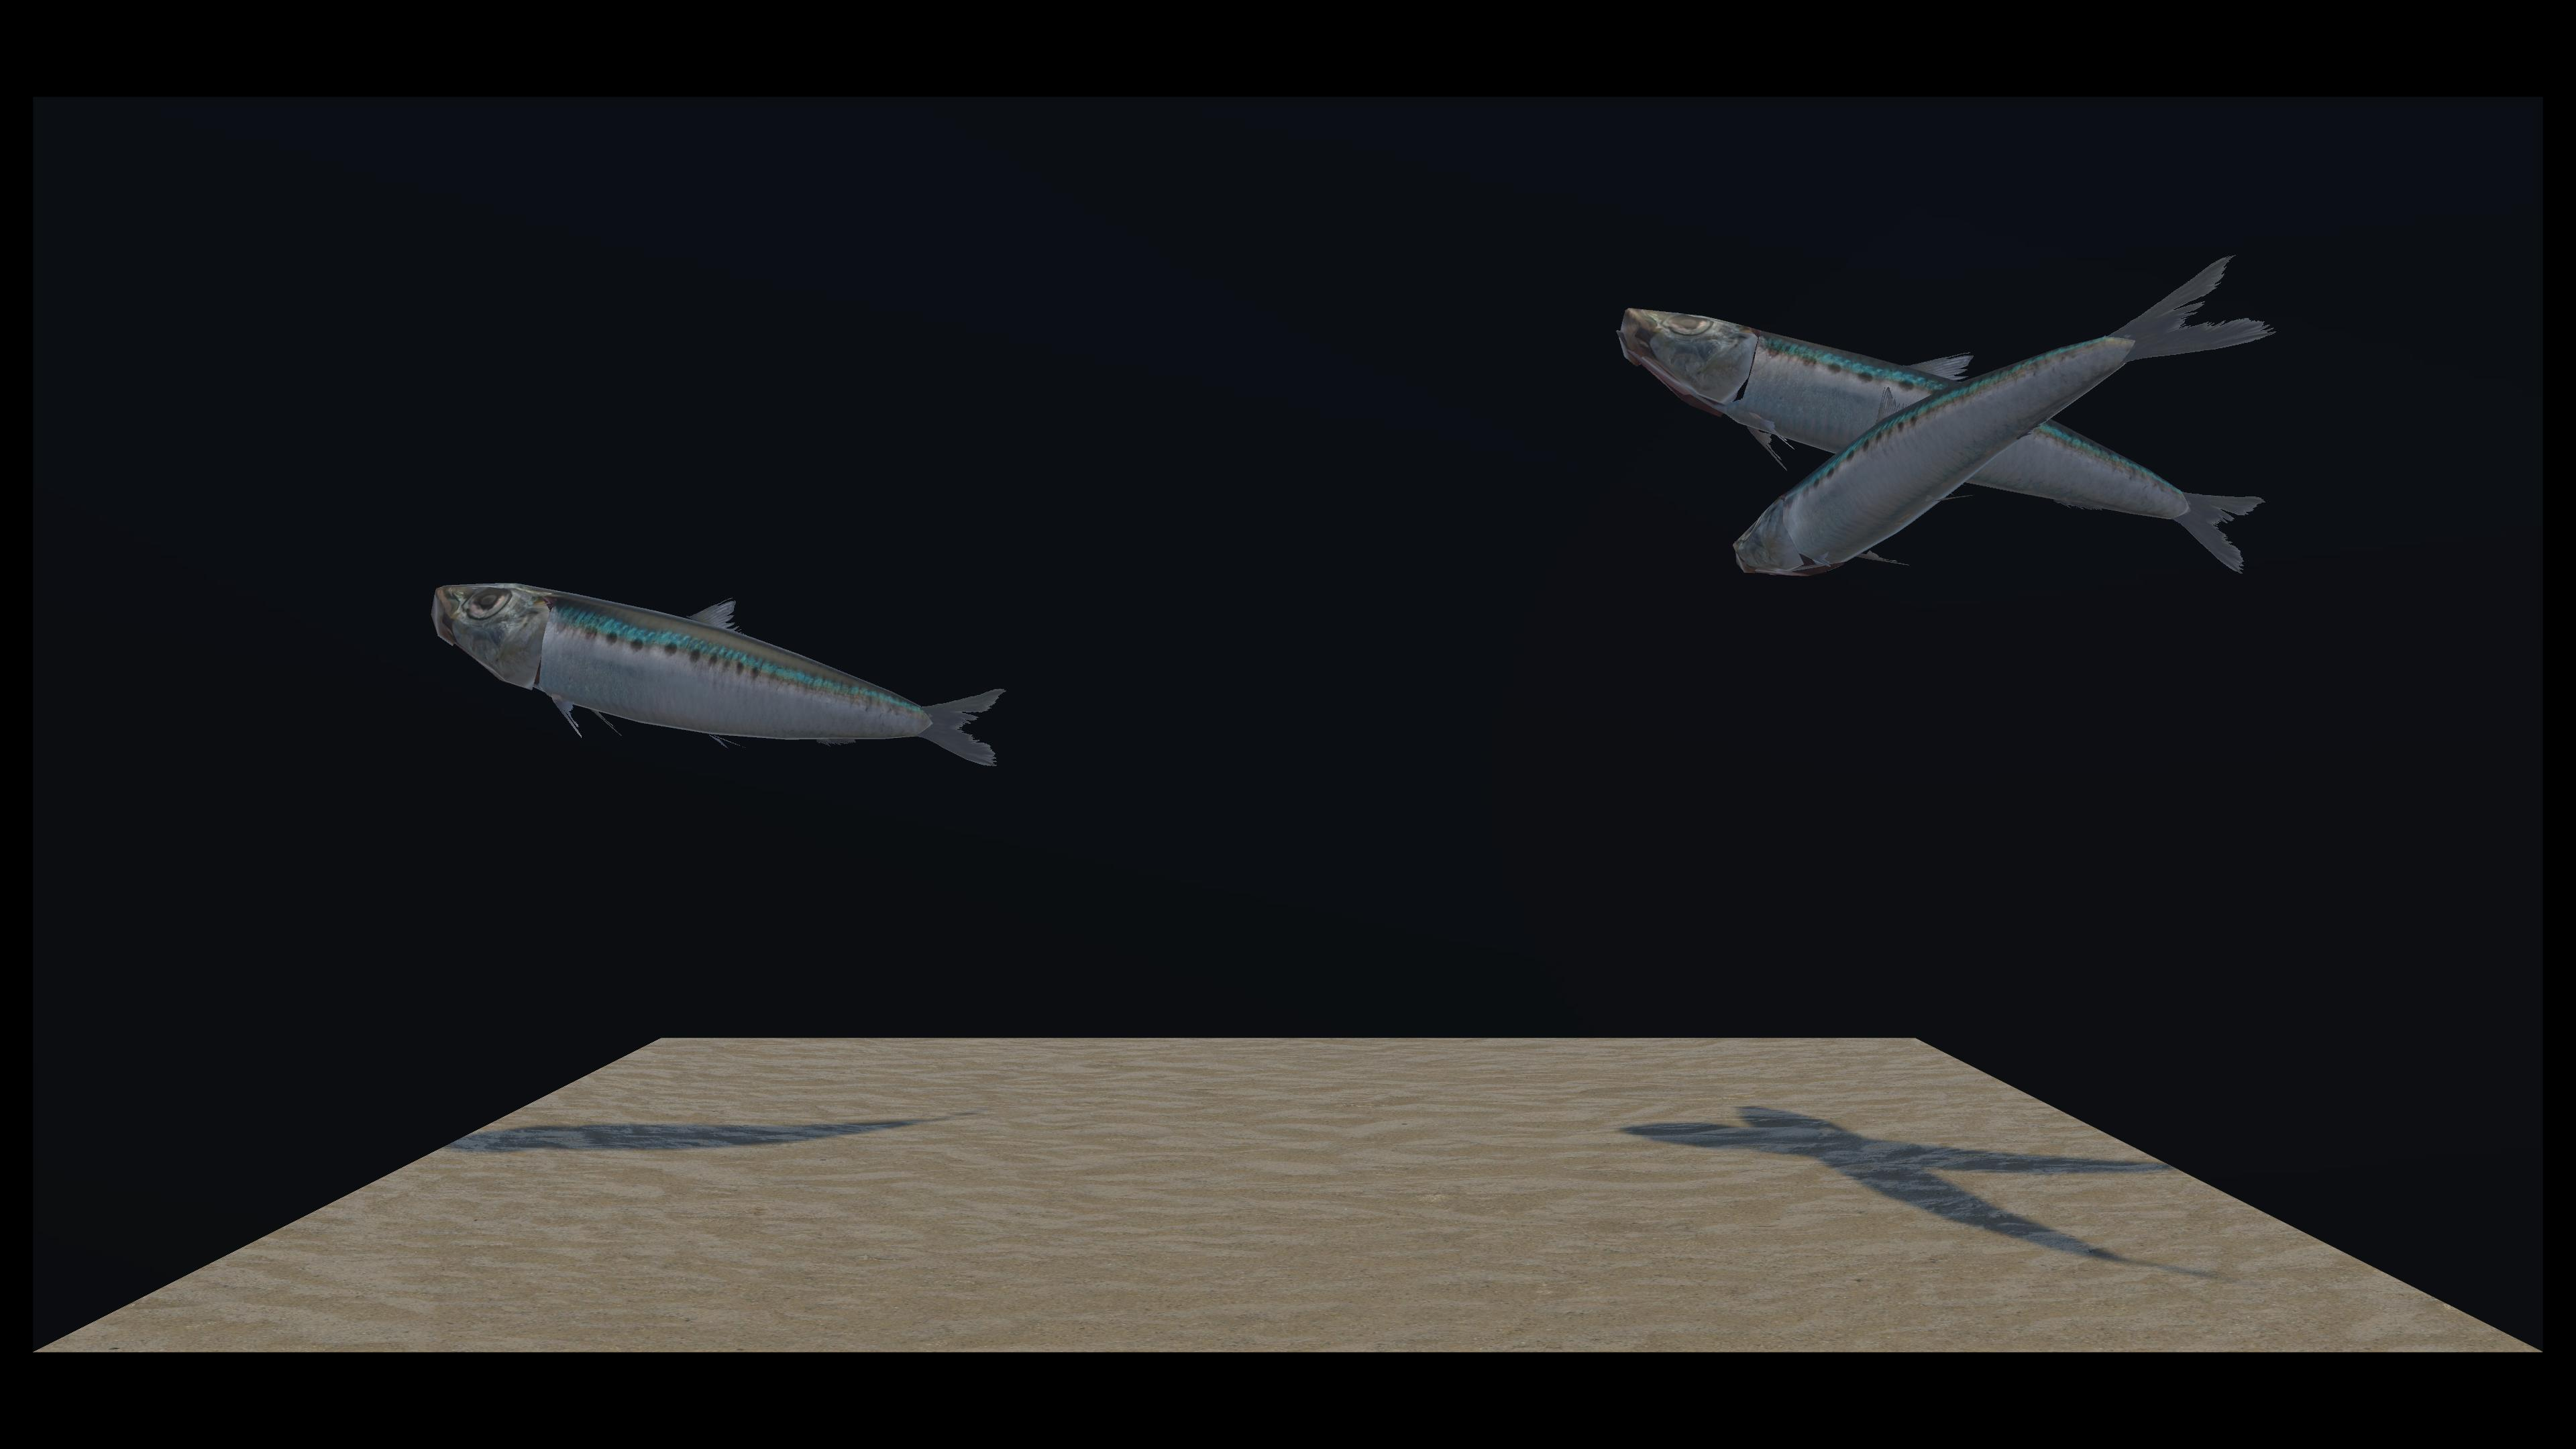Sardine_Front: (791, 249, 2265, 577), (1023, 311, 2259, 584), (448, 396, 1000, 764)
